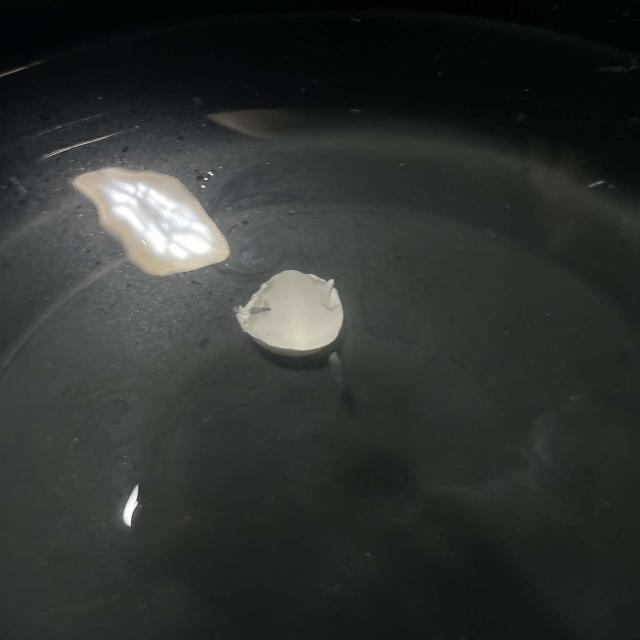Eggshell: (217, 246, 372, 382)
